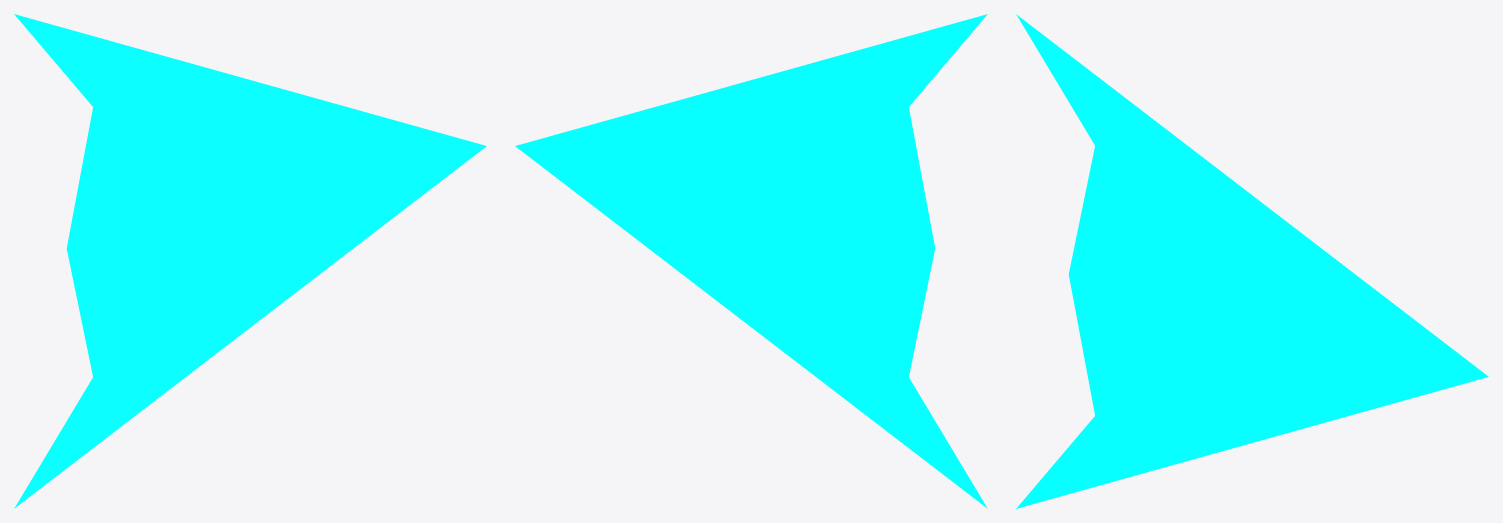
The model's file is Spaceship.glb.
The picture shows the model from 3 angles, left to right: view 1: azimuth 30°, elevation 25°; view 2: azimuth 150°, elevation 25°; view 3: azimuth 330°, elevation 25°; orthographic projection.
Visible parts, largest first — view 1: Ship; view 2: Ship; view 3: Ship.
Part boxes in pixels (x1,y1,x2,y2): Ship: (14, 14, 486, 508); Ship: (515, 14, 987, 508); Ship: (1016, 14, 1488, 508).
Size of the model in its own units: 20 by 20 by 0.
